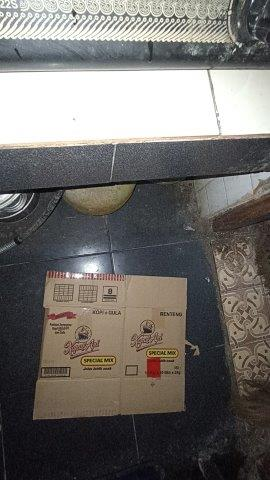kardus: (32, 272, 186, 419)
